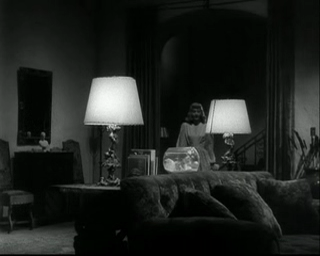els: (1, 1, 320, 256)
face: (190, 108, 202, 121)
person: (176, 102, 216, 171)
